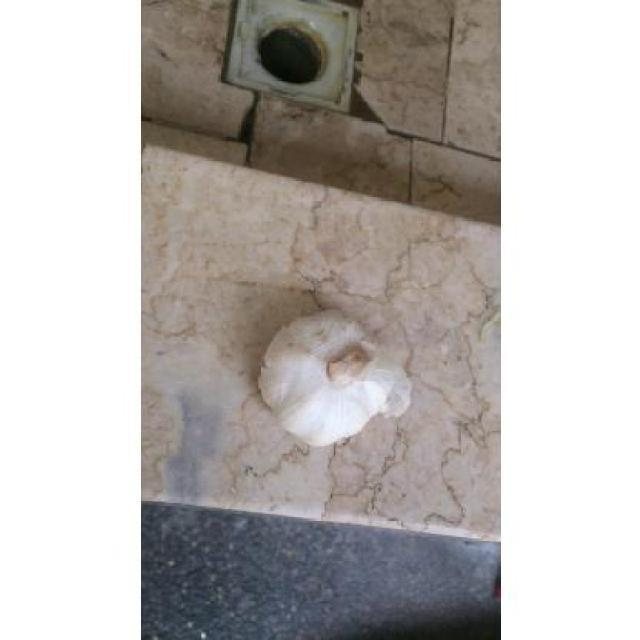garlic: (259, 310, 411, 446)
